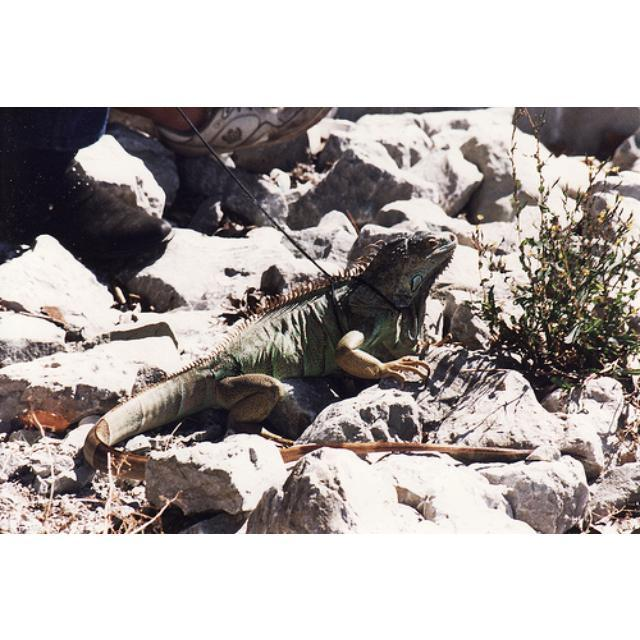KomodoDragon: (81, 228, 458, 478)
